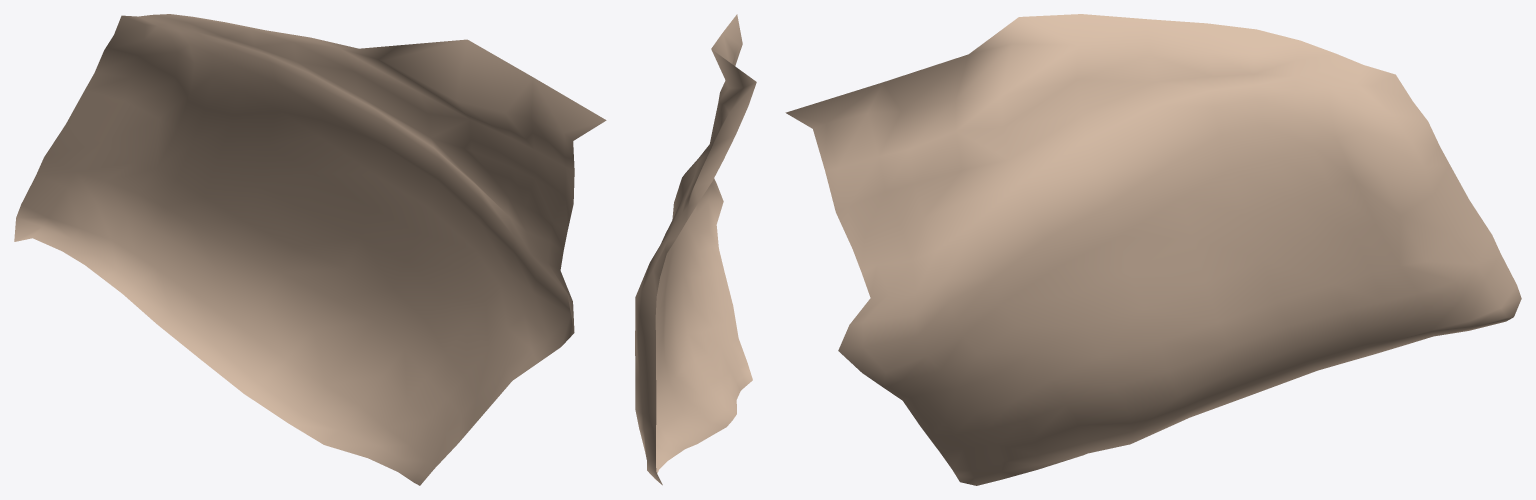
3 renders of one model, left to right at view 1: azimuth 30°, elevation 25°; view 2: azimuth 150°, elevation 25°; view 3: azimuth 270°, elevation 25°, orthographic. The views are drawn at different scales.
Visible parts, largest first — view 1: 左侧咬肌筋膜; view 2: 左侧咬肌筋膜; view 3: 左侧咬肌筋膜.
Boxes of the visible parts, <box> form: 左侧咬肌筋膜: <box>14,14,606,485</box>; 左侧咬肌筋膜: <box>635,14,756,485</box>; 左侧咬肌筋膜: <box>785,14,1521,485</box>.
Size of the model in its own units: 0.0417 by 0.0696 by 0.1016.
